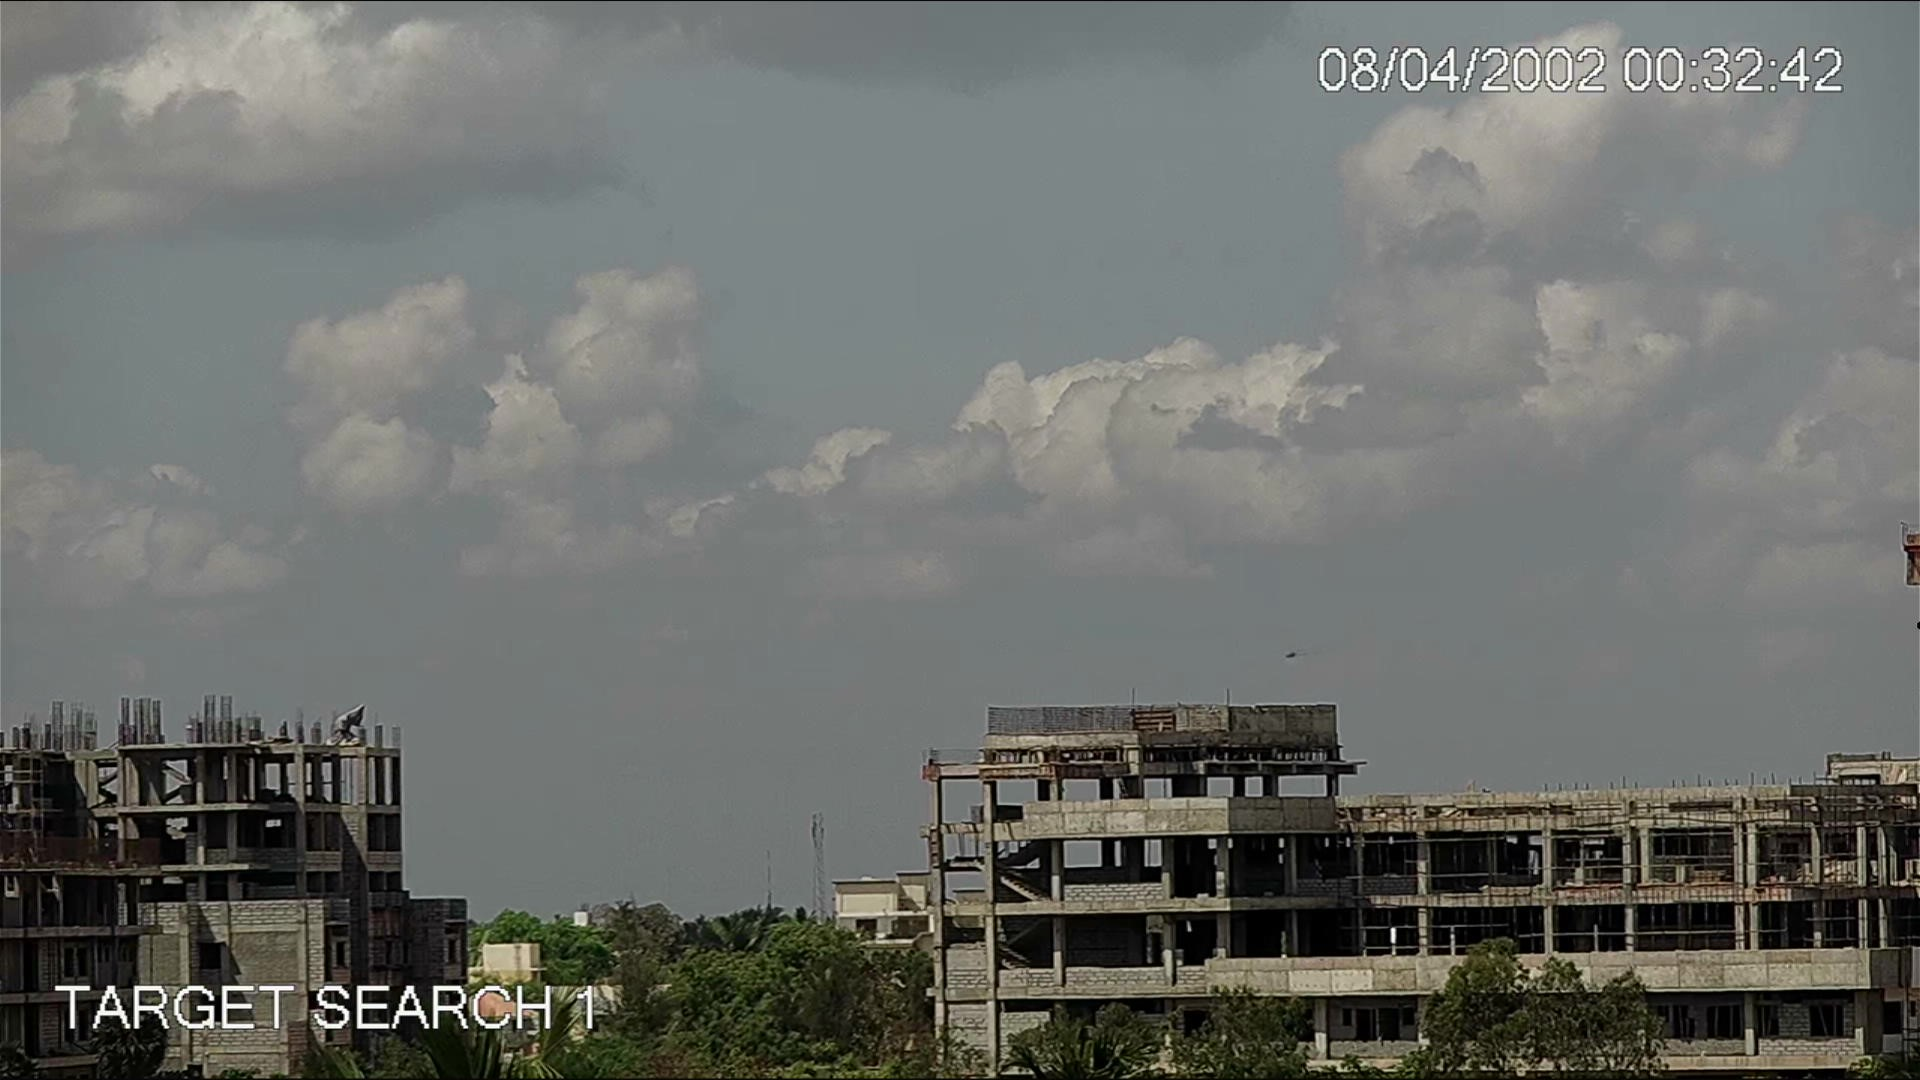SU_30: (1280, 647, 1308, 661)
